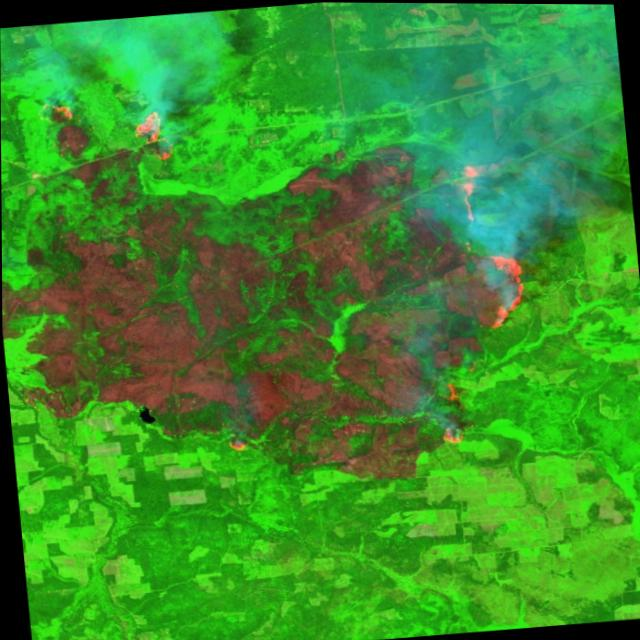fire: (409, 151, 546, 446), (46, 92, 178, 174), (218, 426, 263, 457)
